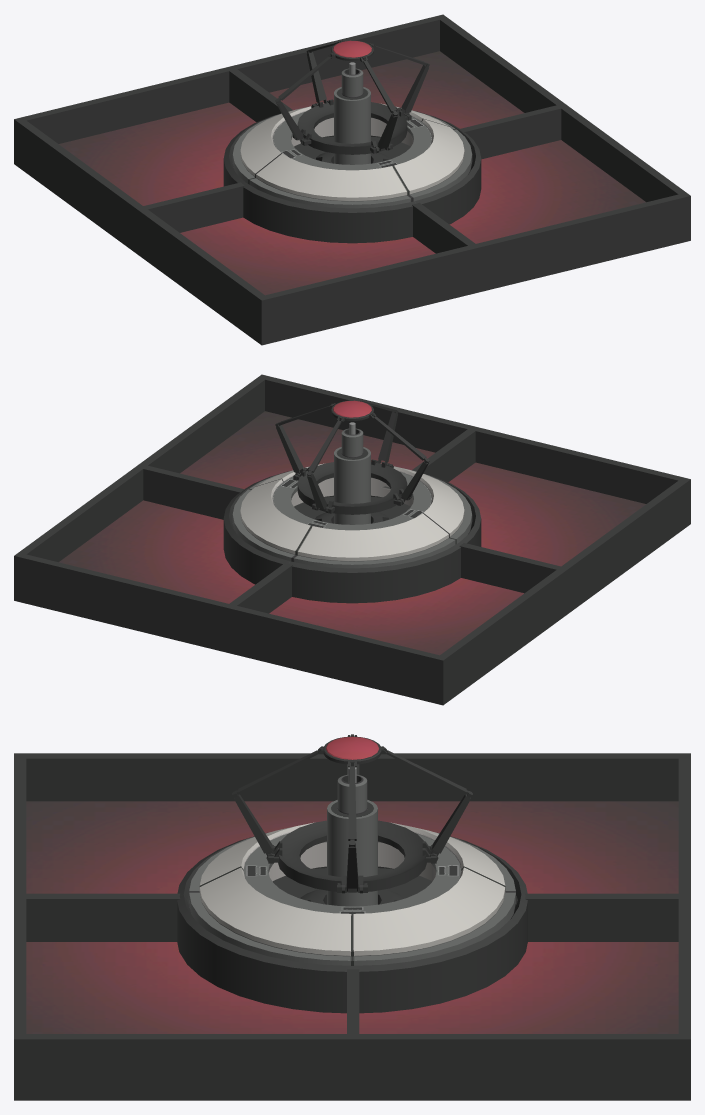
The model's file is laser_emitter.glb.
3 renders of one model, top to bottom at view 1: azimuth 30°, elevation 25°; view 2: azimuth 150°, elevation 25°; view 3: azimuth 270°, elevation 25°, orthographic. The views are drawn at different scales.
Parts seen in each view (by area): view 1: EDITOR_laser_emitter; view 2: EDITOR_laser_emitter; view 3: EDITOR_laser_emitter.
Boxes of the visible parts, x1,y1,x2,y2 form: EDITOR_laser_emitter: (14, 14, 690, 345); EDITOR_laser_emitter: (14, 374, 690, 705); EDITOR_laser_emitter: (14, 734, 690, 1100).
Size of the model in its own units: 0.7936 by 0.2762 by 0.7936.
Materials: 1 (1 with a texture image).
